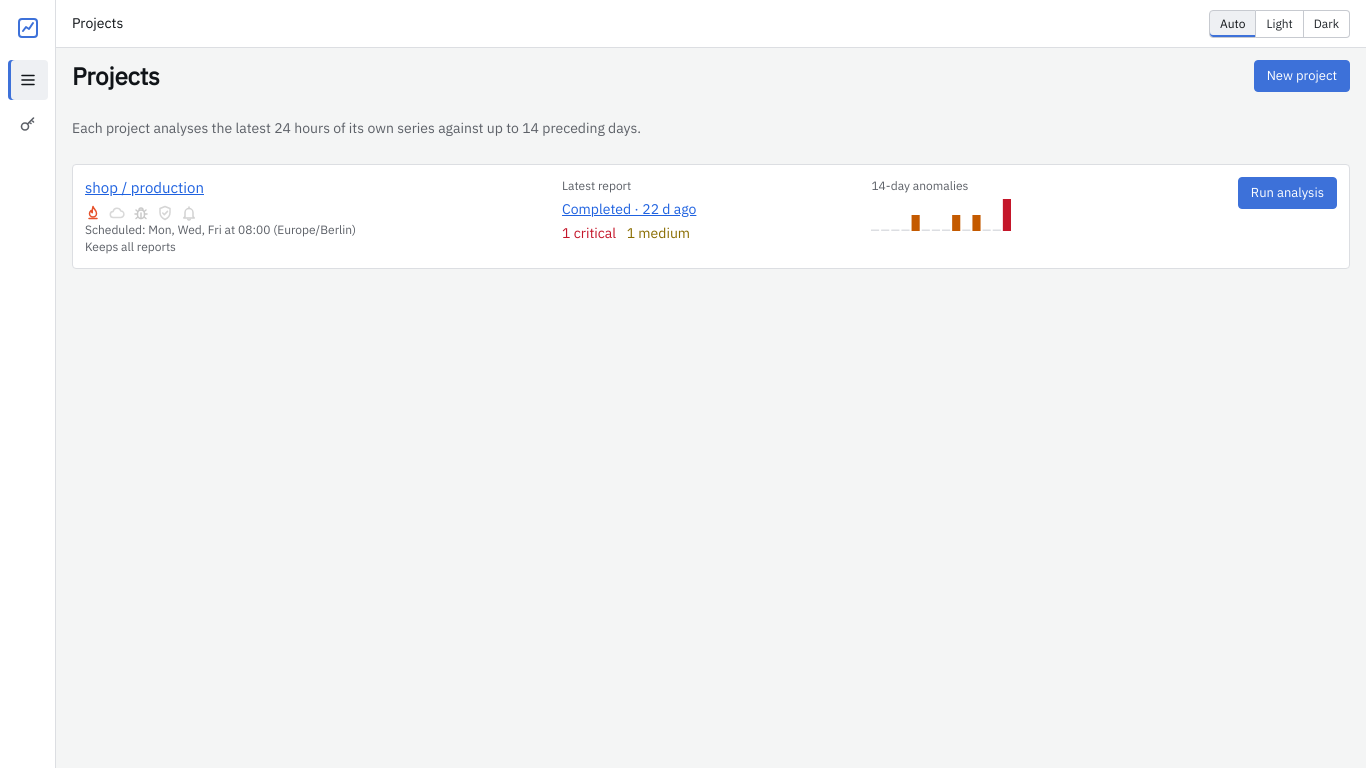
Scenario: projects list › shows queue-full with the retry time
Click the button "Run analysis". click: (1287, 193)
box: x1=1238 y1=177 x2=1337 y2=209
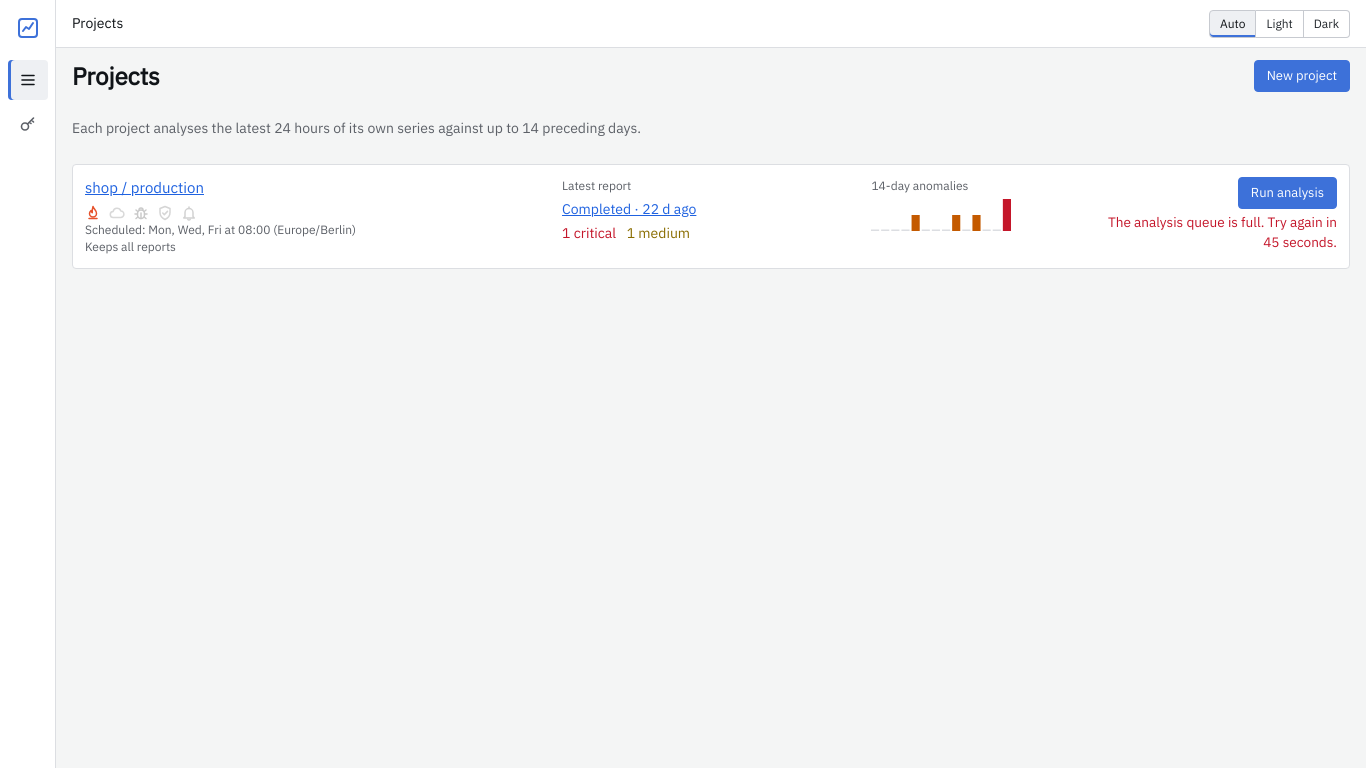
Expected: the message shows "Try again in 45 seconds", x1=1108 y1=213 x2=1337 y2=251
